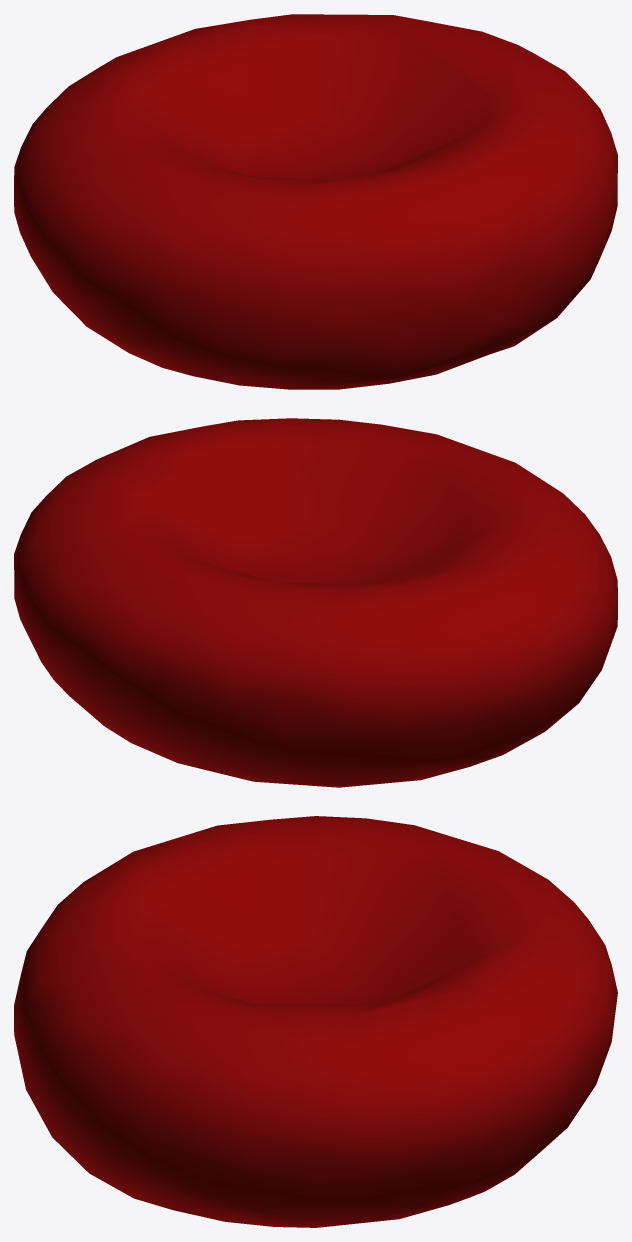
Rendered from RedBloodCell.fbx.
The picture shows the model from 3 angles, top to bottom: view 1: azimuth 30°, elevation 25°; view 2: azimuth 150°, elevation 25°; view 3: azimuth 270°, elevation 25°; orthographic projection. The views are drawn at different scales.
Visible parts, largest first — view 1: pSphere1; view 2: pSphere1; view 3: pSphere1.
Boxes of the visible parts, x1,y1,x2,y2 form: pSphere1: (14,14,617,389); pSphere1: (14,418,617,787); pSphere1: (14,816,617,1227).
Bounding box in the file's own units: 5.24 × 1.98 × 4.77.
